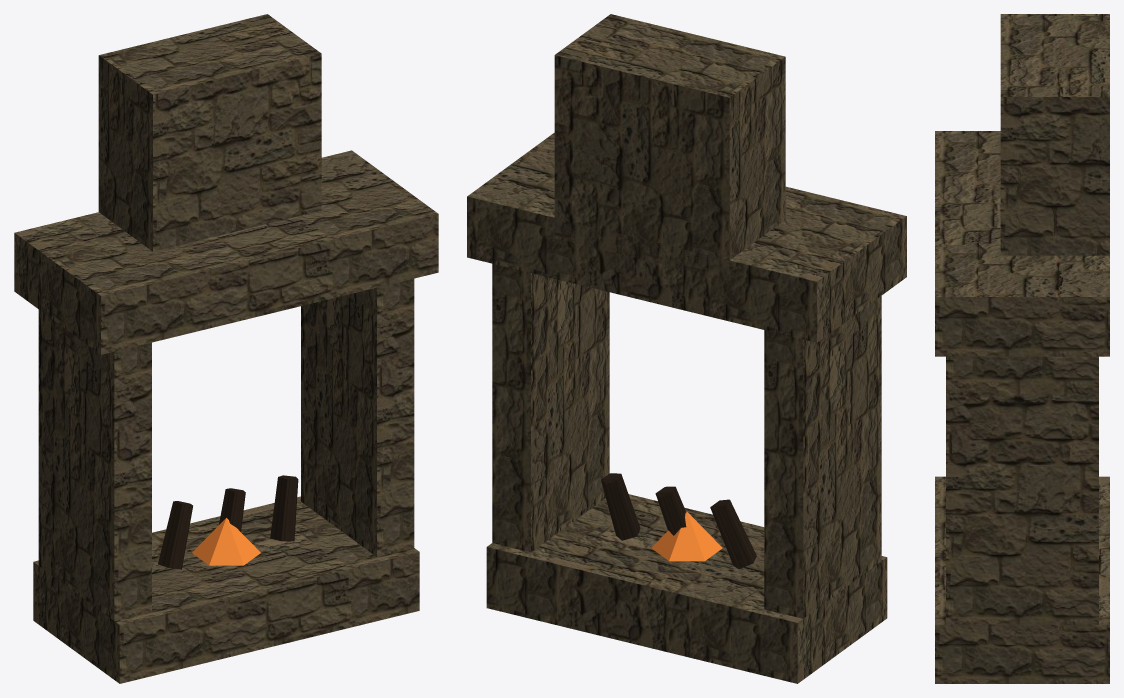
Rendered from hearth_stone_01.glb.
3 renders of one model, left to right at view 1: azimuth 30°, elevation 25°; view 2: azimuth 150°, elevation 25°; view 3: azimuth 270°, elevation 25°, orthographic. The views are drawn at different scales.
Visible parts, largest first — view 1: hearth_stone_01; view 2: hearth_stone_01; view 3: hearth_stone_01.
Boxes of the visible parts, x1=… form: hearth_stone_01: x1=14, y1=14, x2=438, y2=683; hearth_stone_01: x1=467, y1=14, x2=906, y2=683; hearth_stone_01: x1=935, y1=14, x2=1109, y2=683.
Bounding box in the file's own units: 1.8 × 2.8 × 0.8.
3 materials, 3 textured.
